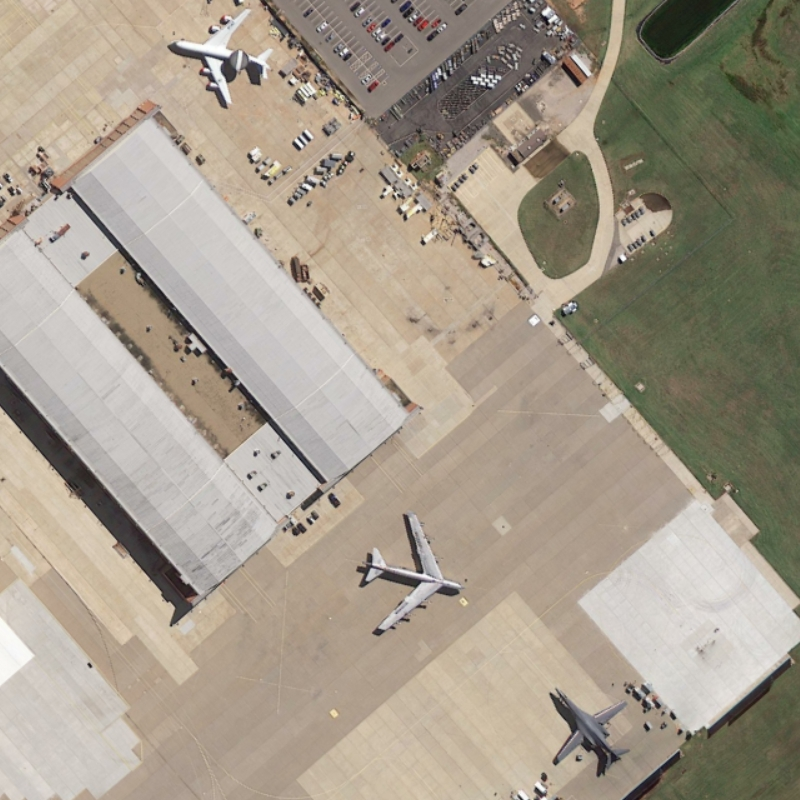A10: (542, 683, 637, 781)
A7: (158, 6, 286, 110)
A8: (351, 505, 471, 643)
